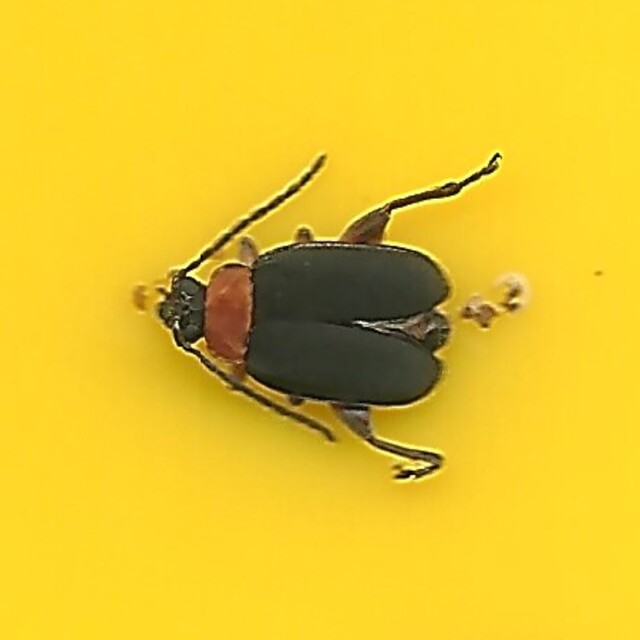Coleoptera: (142, 153, 498, 487)
